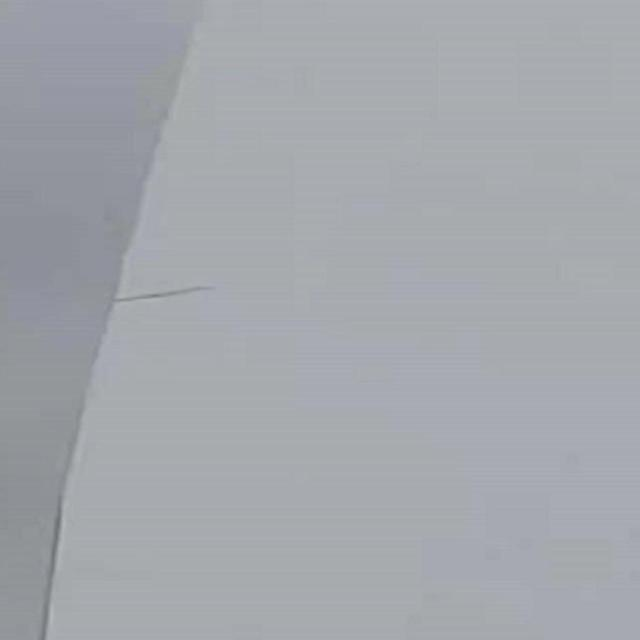crack: (33, 297, 116, 632), (108, 57, 208, 301)
